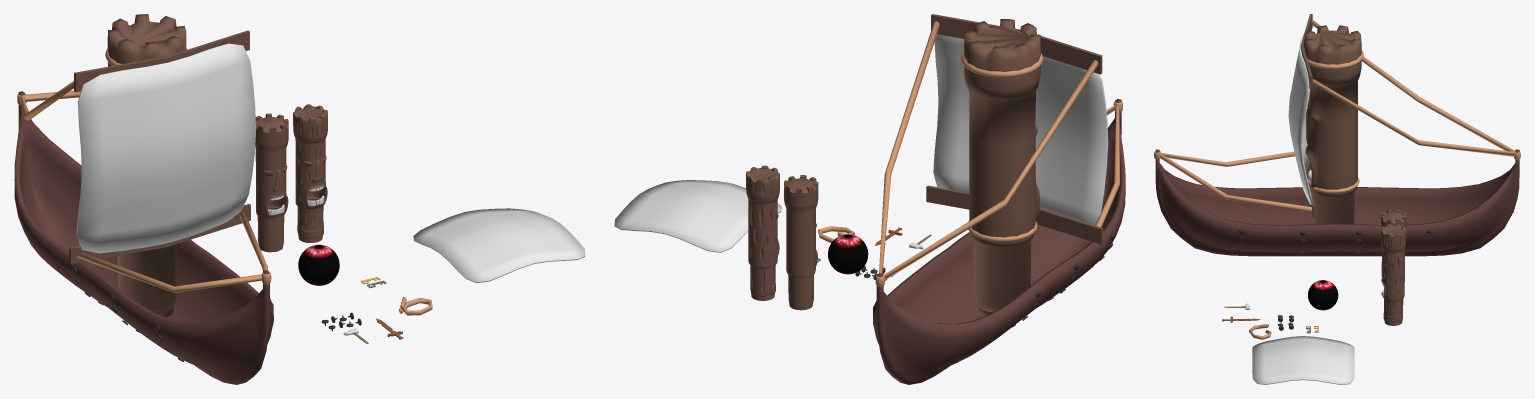
The model's file is Puzzle items.fbx.
The picture shows the model from 3 angles, left to right: view 1: azimuth 30°, elevation 25°; view 2: azimuth 150°, elevation 25°; view 3: azimuth 270°, elevation 25°; orthographic projection. The views are drawn at different scales.
Parts seen in each view (by area): view 1: nails, Plane.002, tiki statue hp, tiki statue, skull eye; view 2: nails, Plane.002, tiki statue, tiki statue hp, skull eye; view 3: nails, Plane.002, tiki statue hp, skull eye, tiki statue.
Part boxes in pixels (x1,y1,x2,y2): nails: (14,14,273,384); Plane.002: (413,208,585,283); tiki statue hp: (293,104,327,242); tiki statue: (255,113,288,252); skull eye: (298,244,339,285); nails: (873,14,1125,384); Plane.002: (614,180,781,252); tiki statue: (784,175,818,310); tiki statue hp: (746,165,779,300); skull eye: (828,234,868,274); nails: (1154,14,1520,256); Plane.002: (1252,336,1354,384); tiki statue hp: (1380,224,1406,325); skull eye: (1308,280,1338,310); tiki statue: (1381,209,1406,304).
Bounding box in the file's own units: 1109 × 687 × 993.
